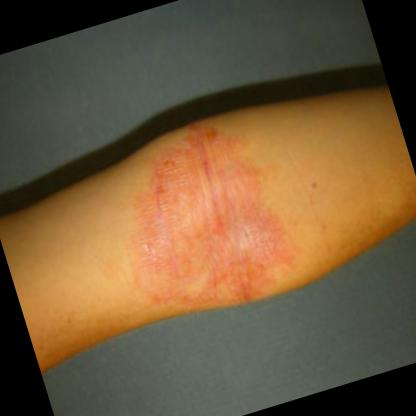Eczema: (98, 103, 318, 318)
